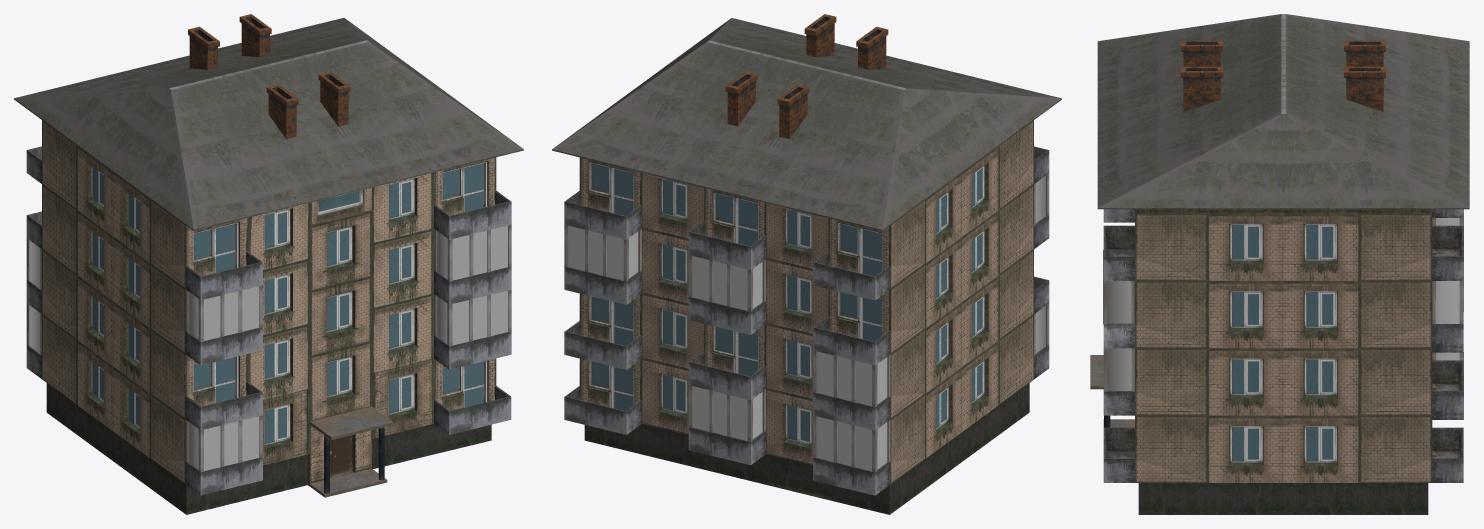
The model's file is AAAapartment_all.fbx.
3 views of the same model, side by side, from view 1: azimuth 30°, elevation 25°; view 2: azimuth 150°, elevation 25°; view 3: azimuth 270°, elevation 25° (orthographic). The views are drawn at different scales.
Visible parts, largest first — view 1: panel_house002, entrance, glass008, glass, glass004, glass009, balcony001, Object035, Object032, Object006, Object031, Object029 (+9 smaller); view 2: panel_house002, glass007, glass010, glass005, glass011, glass006, Object045, Object043, Object010, Object041, Object039, Object016 (+15 smaller); view 3: panel_house002, Object010, Object043, Object045, balcony001, Object035, funnel1, funnel007, funnel004, funnel005, glass008, glass005 (+6 smaller).
Boxes of the visible parts, box(x1,y1,x2,y2) form: panel_house002: box(14, 18, 523, 514); entrance: box(309, 406, 393, 497); glass008: box(437, 225, 508, 280); glass: box(188, 286, 259, 340); glass004: box(437, 290, 507, 345); glass009: box(188, 416, 259, 470); balcony001: box(434, 190, 511, 239); Object035: box(434, 385, 511, 434); Object032: box(185, 251, 262, 300); Object006: box(185, 381, 262, 430); Object031: box(185, 327, 262, 365); Object029: box(185, 457, 262, 495); panel_house002: box(552, 18, 1061, 514); glass007: box(817, 351, 887, 405); glass010: box(817, 416, 887, 470); glass005: box(568, 226, 638, 280); glass011: box(693, 386, 762, 440); glass006: box(693, 256, 762, 310); Object045: box(564, 190, 641, 239); Object043: box(564, 385, 641, 434); Object010: box(564, 320, 641, 369); Object041: box(688, 351, 765, 400); Object039: box(688, 221, 765, 269); Object016: box(813, 251, 890, 300); panel_house002: box(1097, 14, 1469, 514); Object010: box(1432, 360, 1463, 415); Object043: box(1432, 427, 1463, 482); Object045: box(1432, 225, 1463, 280); balcony001: box(1103, 225, 1134, 280); Object035: box(1103, 427, 1134, 482); funnel1: box(1344, 66, 1385, 111); funnel007: box(1181, 66, 1222, 111); funnel004: box(1344, 40, 1385, 66); funnel005: box(1181, 40, 1222, 66); glass008: box(1107, 281, 1131, 323); glass005: box(1435, 281, 1459, 323).
Size of the model in its own units: 319 by 340 by 306.
